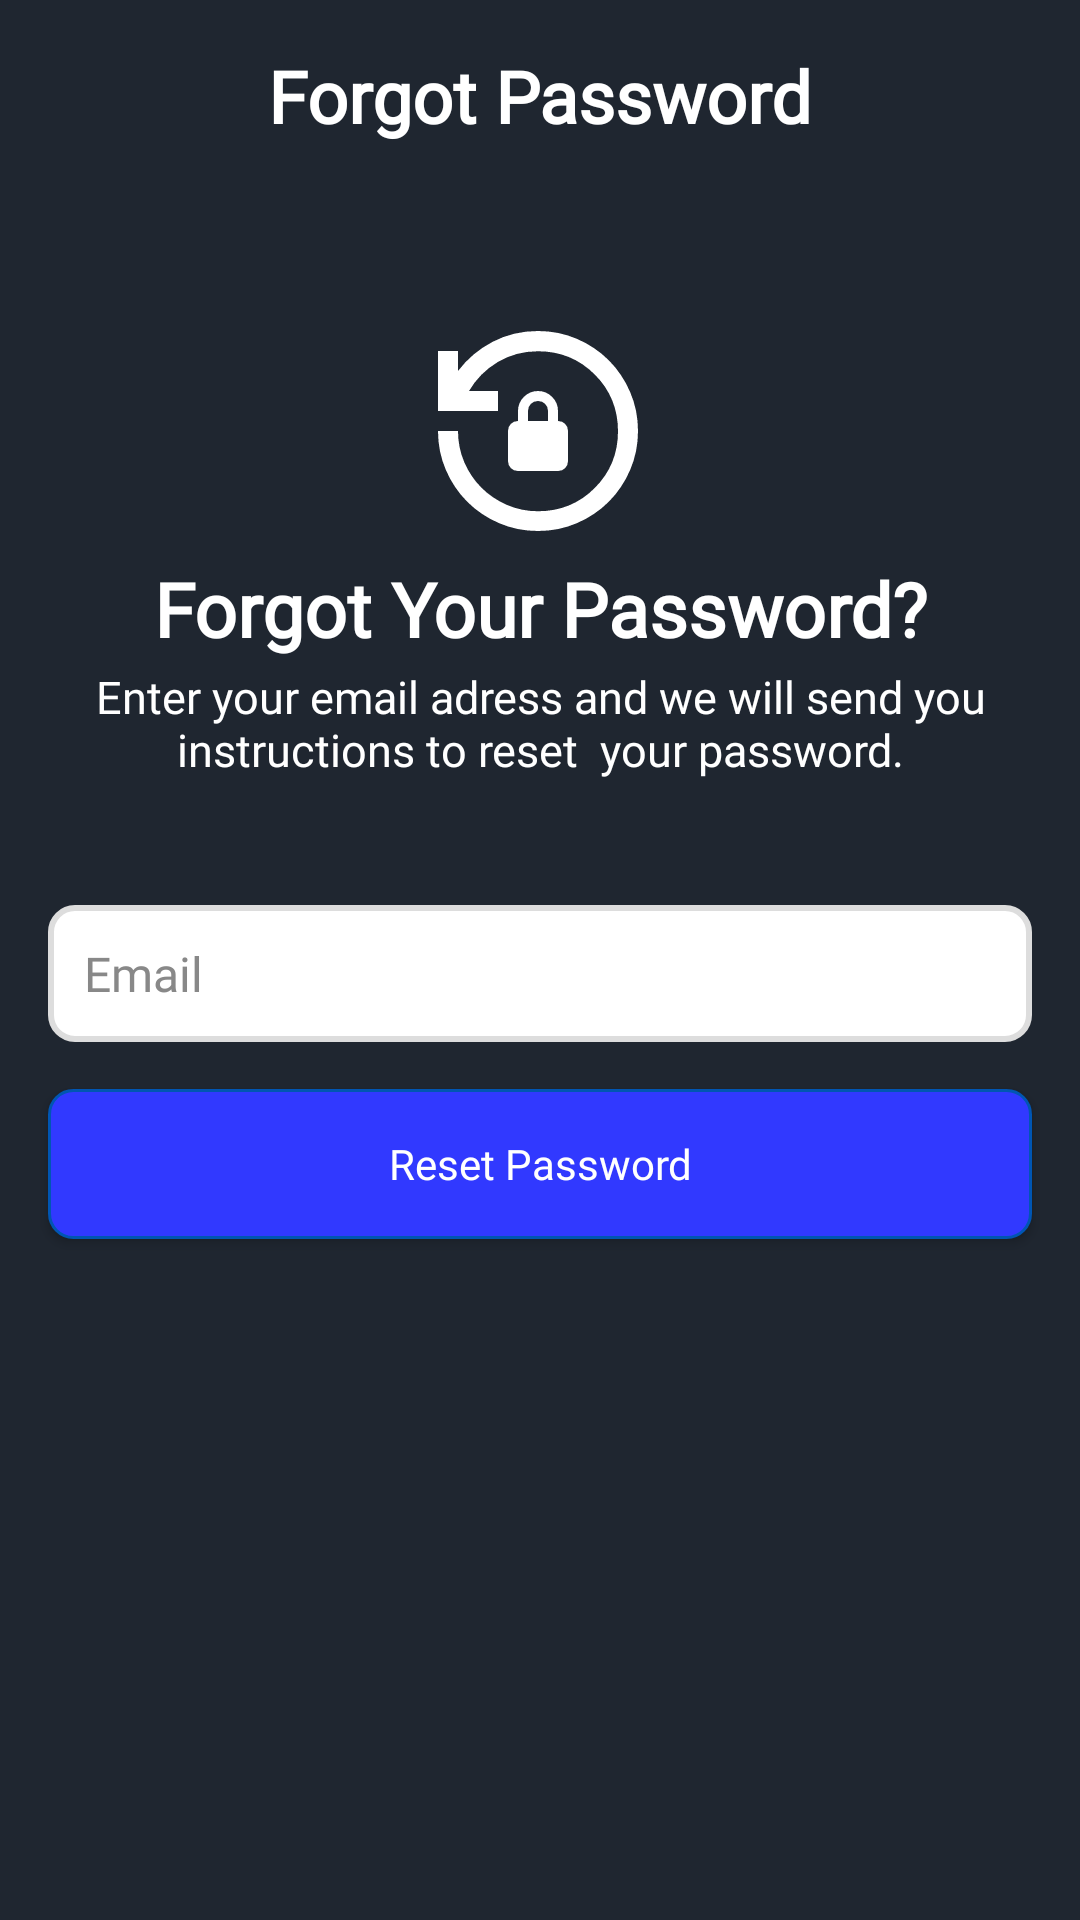

Locate icon controls on the screen. Image size 1080px×1920px, boxes as (x1, y1, x2, y2).
lock reset: (438, 331, 638, 531)
